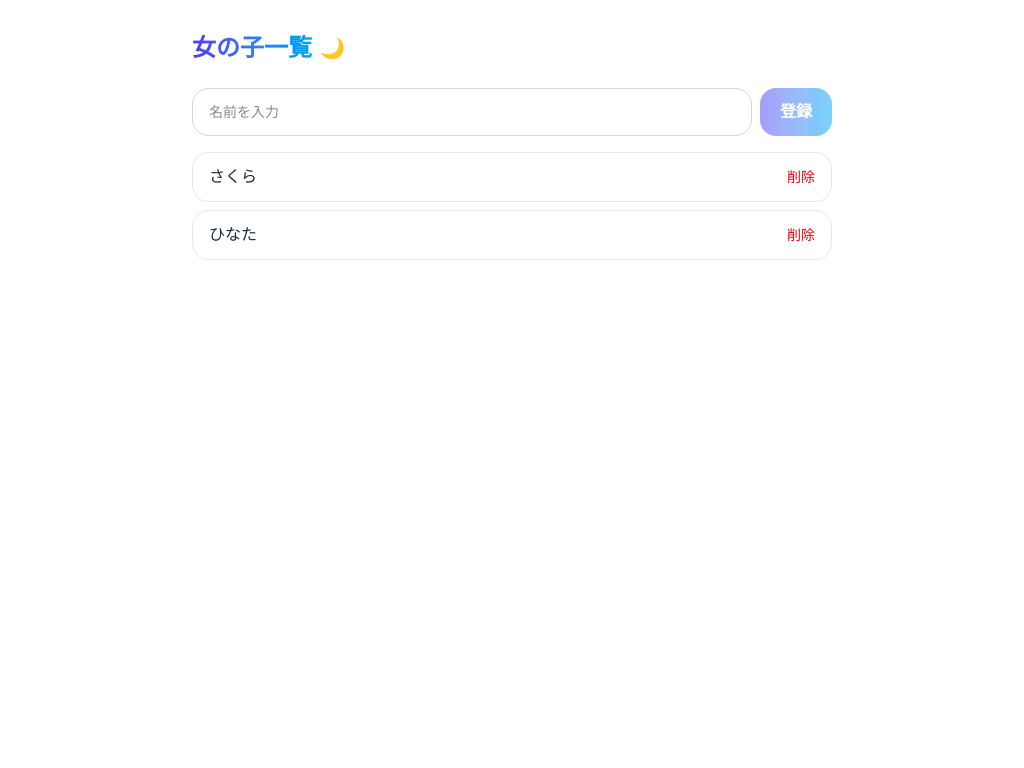
女の子一覧ページ › 削除失敗時にエラーバナーが画面に表示される
Expected: the text "さくら" is shown, [209,165,257,189]
Click the button "削除" in the row of "さくら" at (801, 177), box [787,167,815,187]
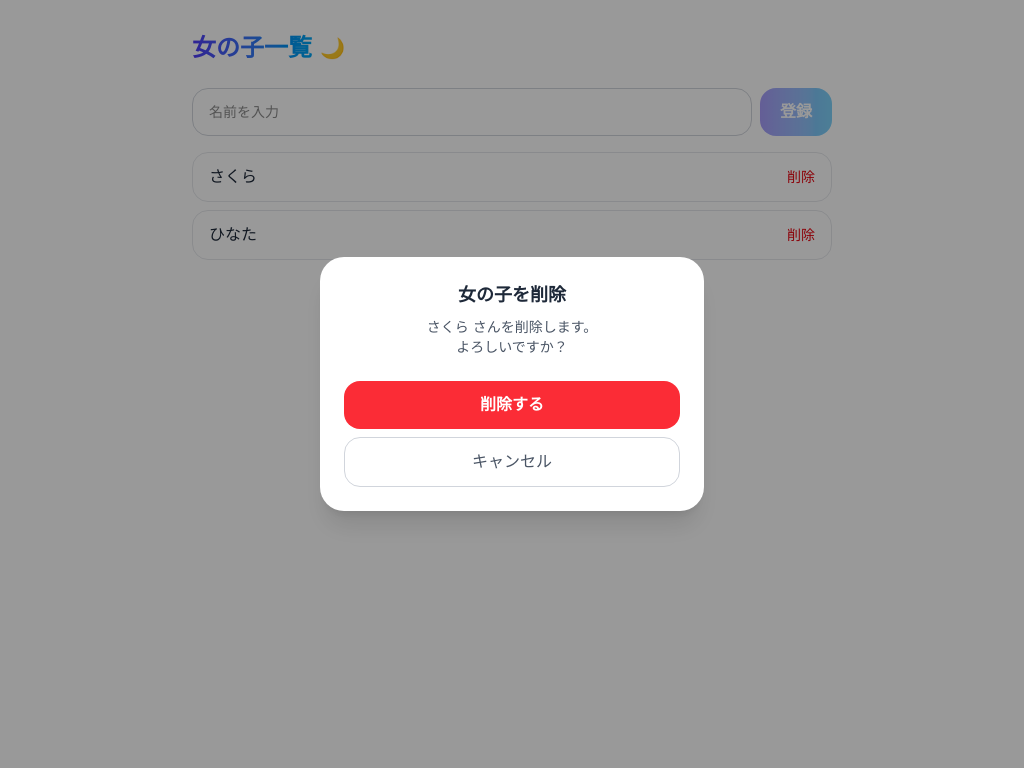
Now the button "削除する" is shown
Click the button "削除する" at (512, 405), box [344,381,680,429]
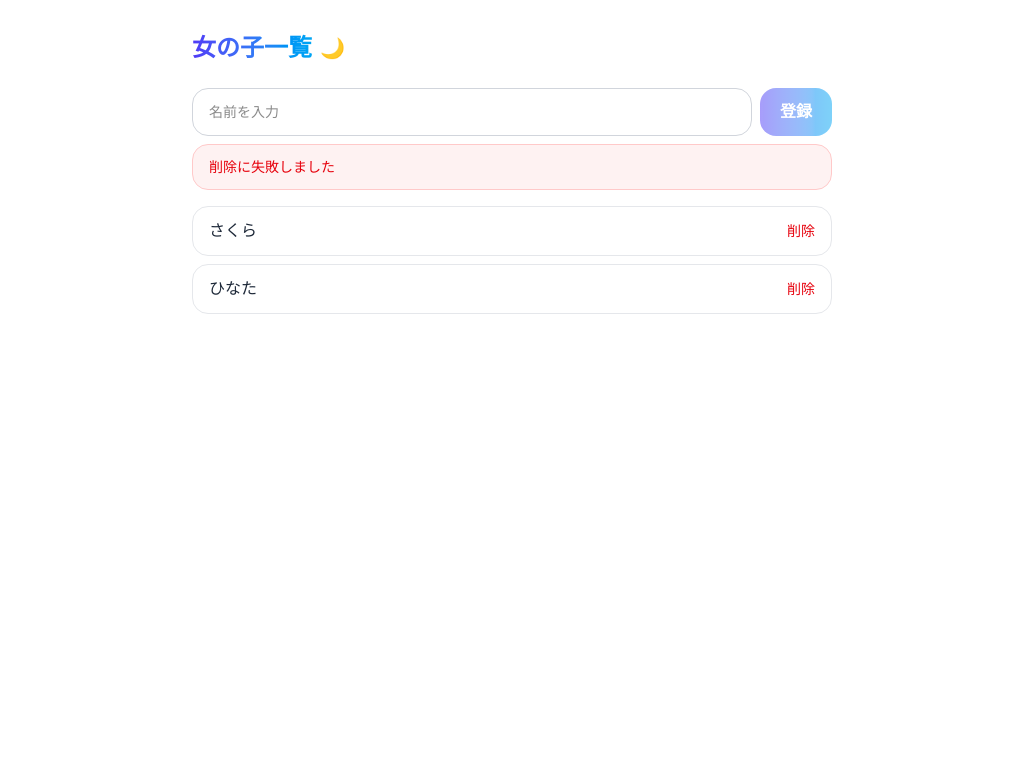
Now the text "削除に失敗しました" is shown, box [192,144,832,190]
